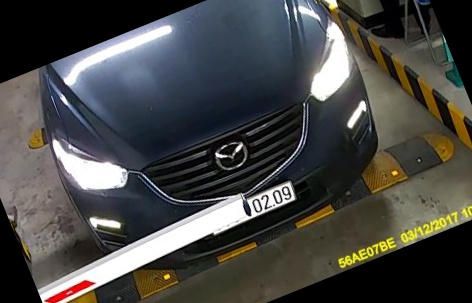plate: (208, 176, 300, 234)
